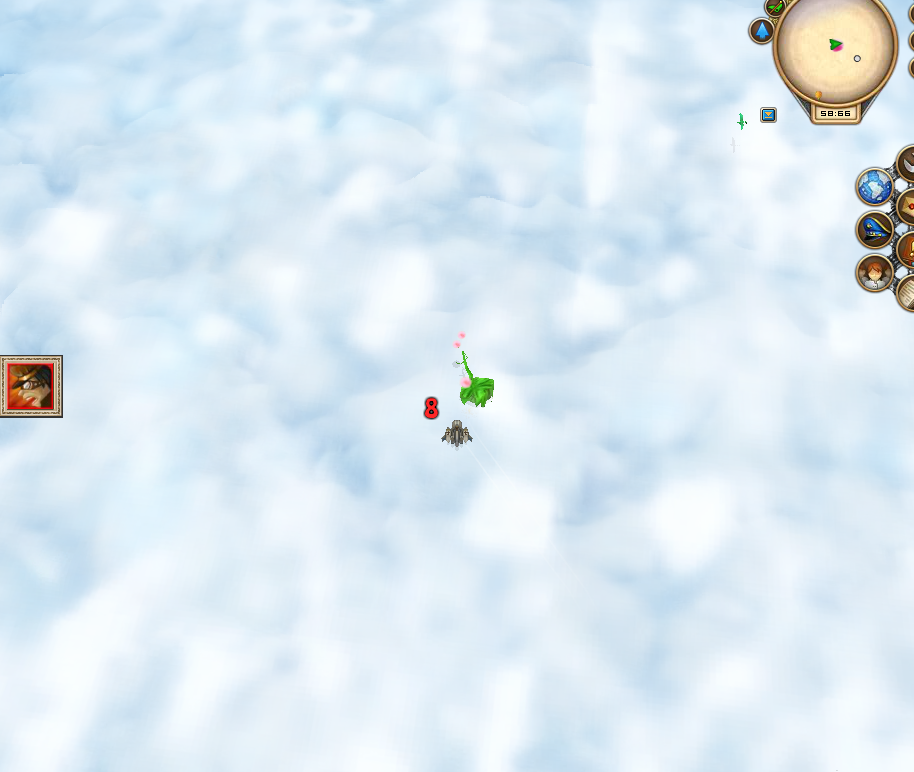dandelion-full: (446, 329, 498, 411)
